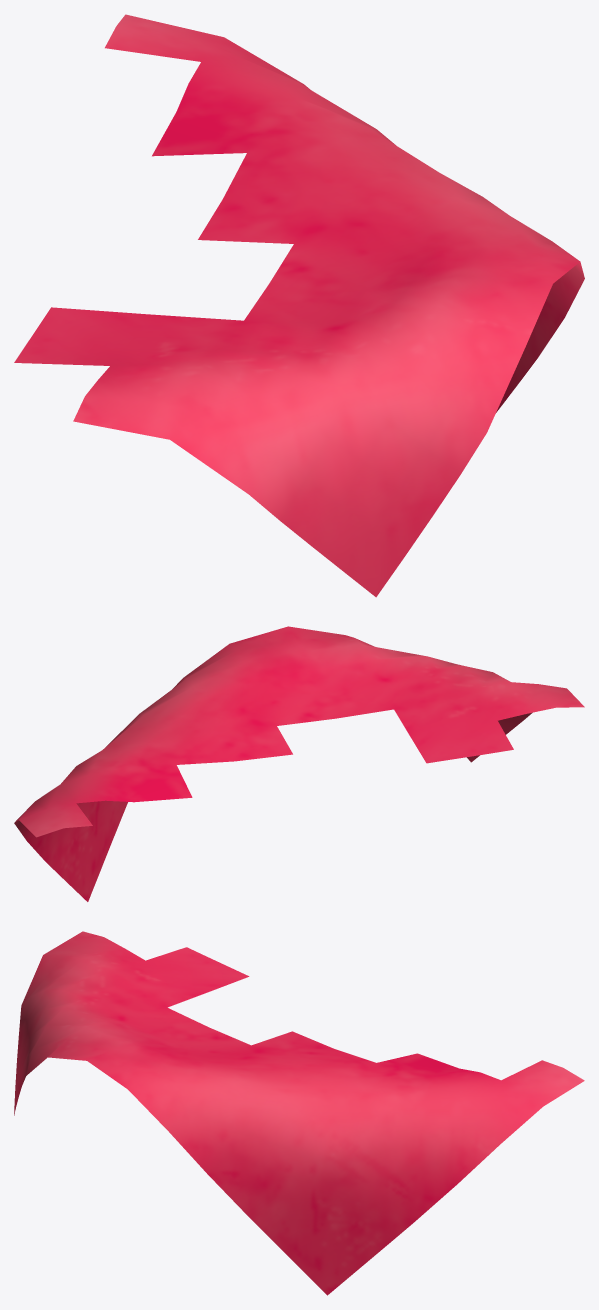
The model's file is clothshelf2.fbx.
3 views of the same model, one above another, from view 1: azimuth 30°, elevation 25°; view 2: azimuth 150°, elevation 25°; view 3: azimuth 270°, elevation 25° (orthographic). The views are drawn at different scales.
Visible parts, largest first — view 1: clothshelf2; view 2: clothshelf2; view 3: clothshelf2.
Part boxes in pixels (left/top/right/bottom): clothshelf2: left=14, top=14, right=584, bottom=597; clothshelf2: left=14, top=626, right=584, bottom=901; clothshelf2: left=14, top=931, right=584, bottom=1295.
Size of the model in its own units: 215 by 113 by 295.
